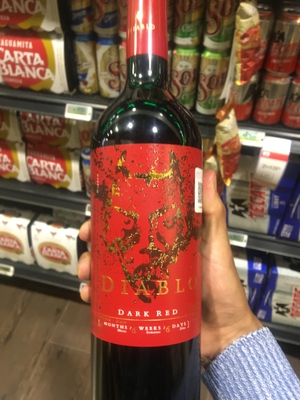diablo dark red: (75, 17, 221, 400)
